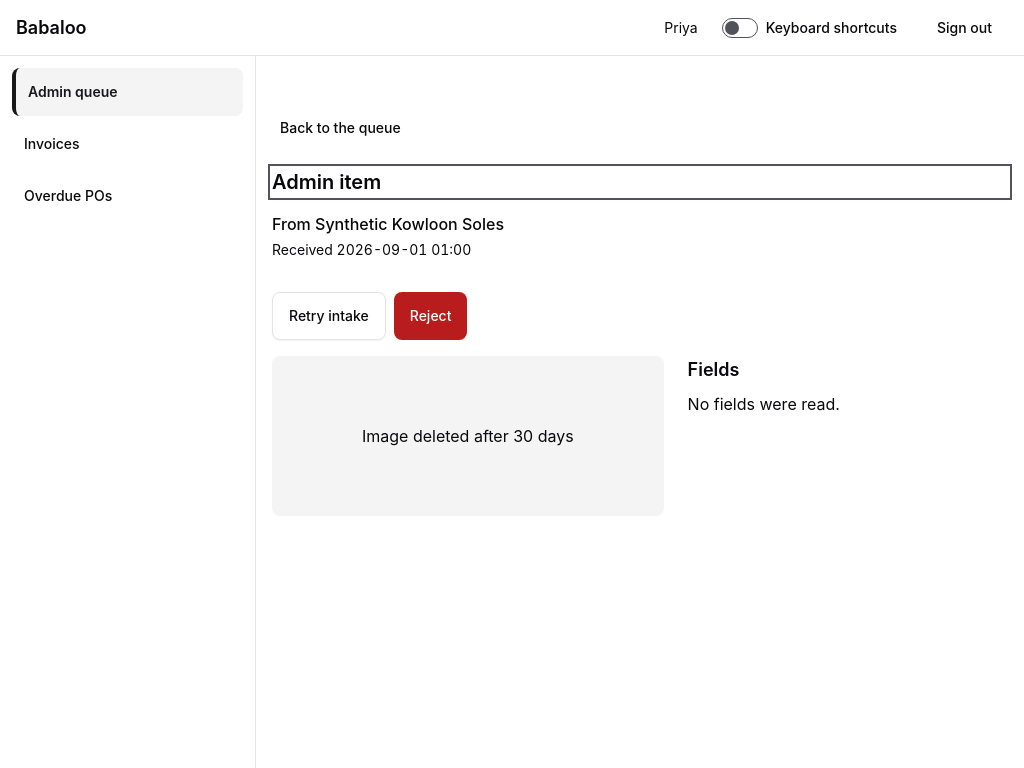
Test: 2.10 admin actions › sends Retry intake and Re-extract through their dialogs, and returns to the queue when an action is no longer allowed
Click the button "Retry intake".
click(329, 316)  # box [272,292,386,340]
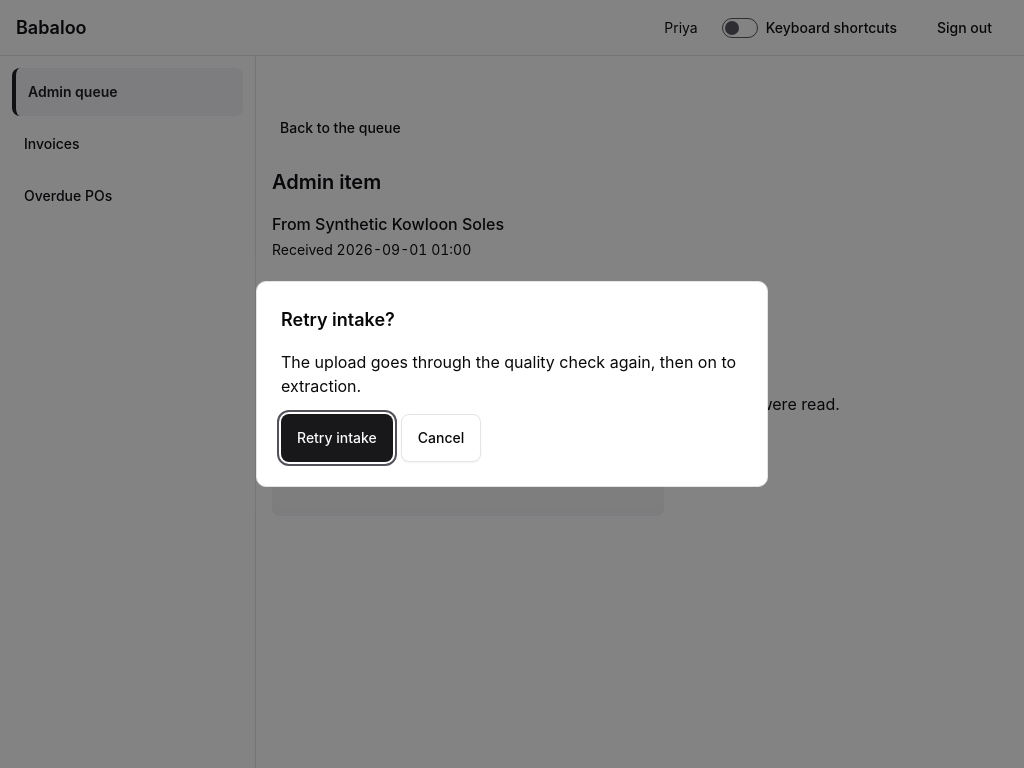
Click the button "Retry intake" below "Retry intake?".
click(337, 438)  # box [281,414,393,462]
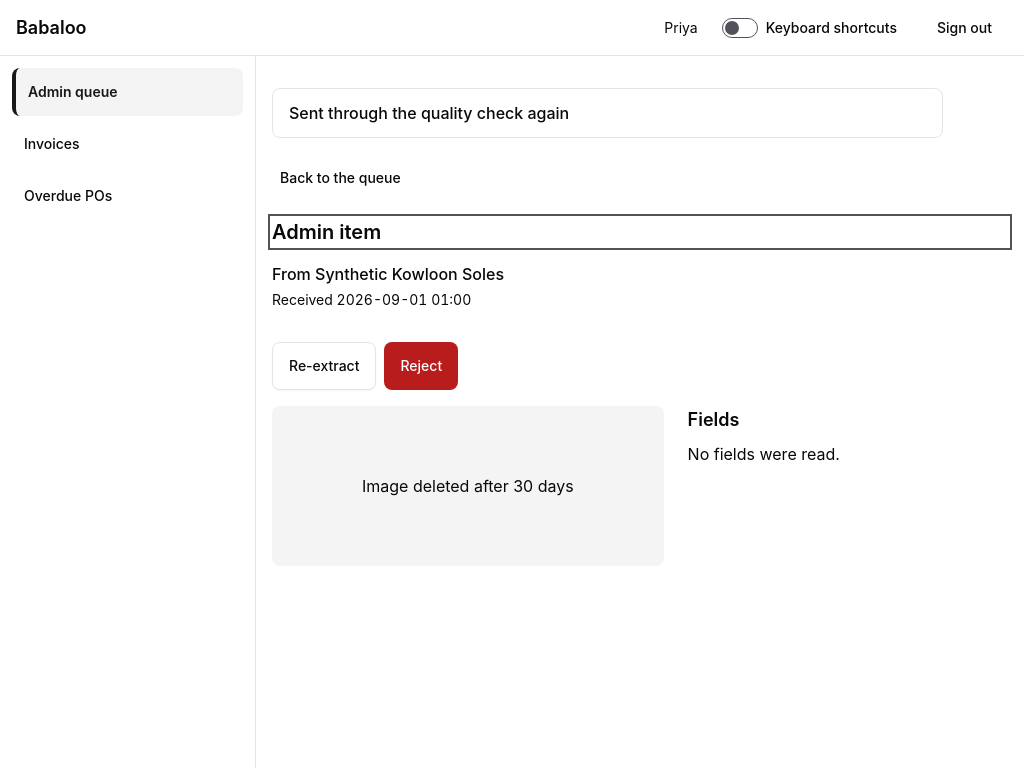
Check: the message with test id "shell-toast" reads "Sent through the quality check again", box [289,103,569,123]
Click the button "Re-extract".
click(324, 366)  # box [272,342,376,390]
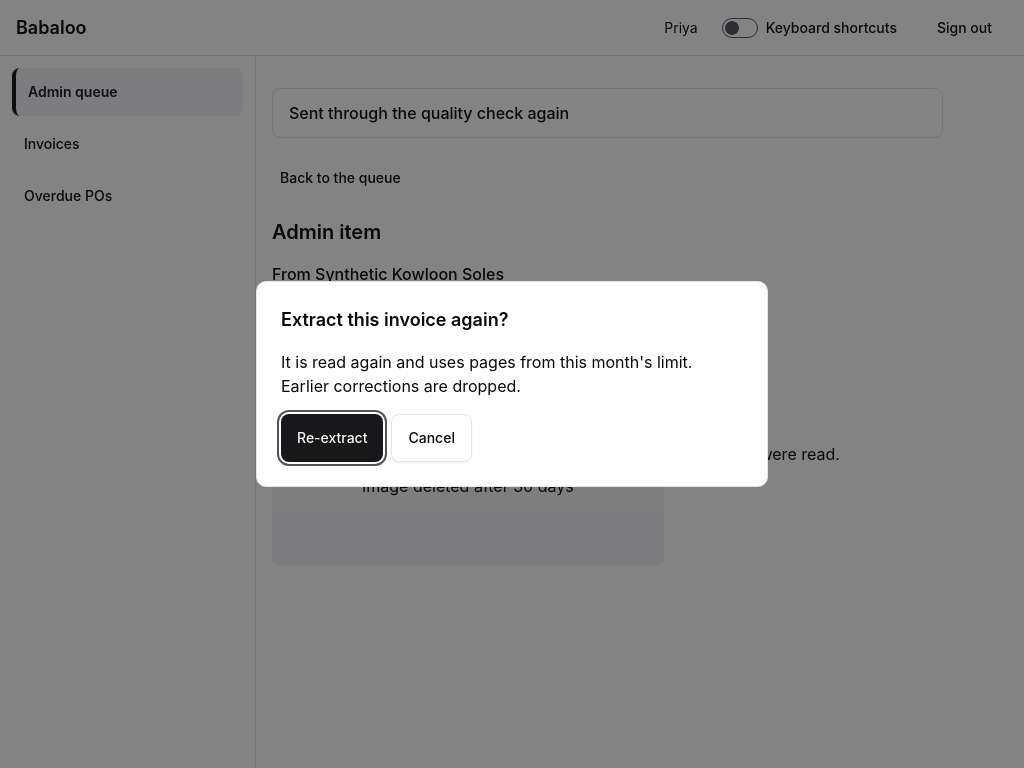
Click the button "Re-extract" below "Extract this invoice again?".
click(332, 438)  # box [281,414,384,462]
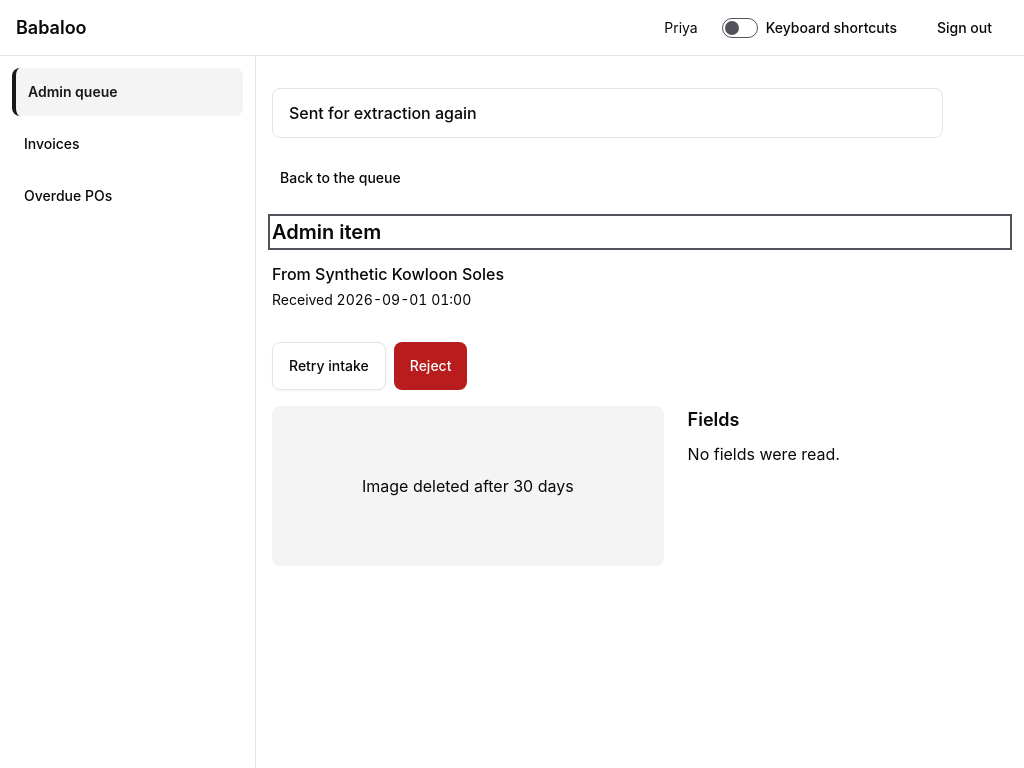
Check: the message with test id "shell-toast" reads "Sent for extraction again", box [289,103,477,123]
Click the button "Retry intake".
click(329, 366)  # box [272,342,386,390]
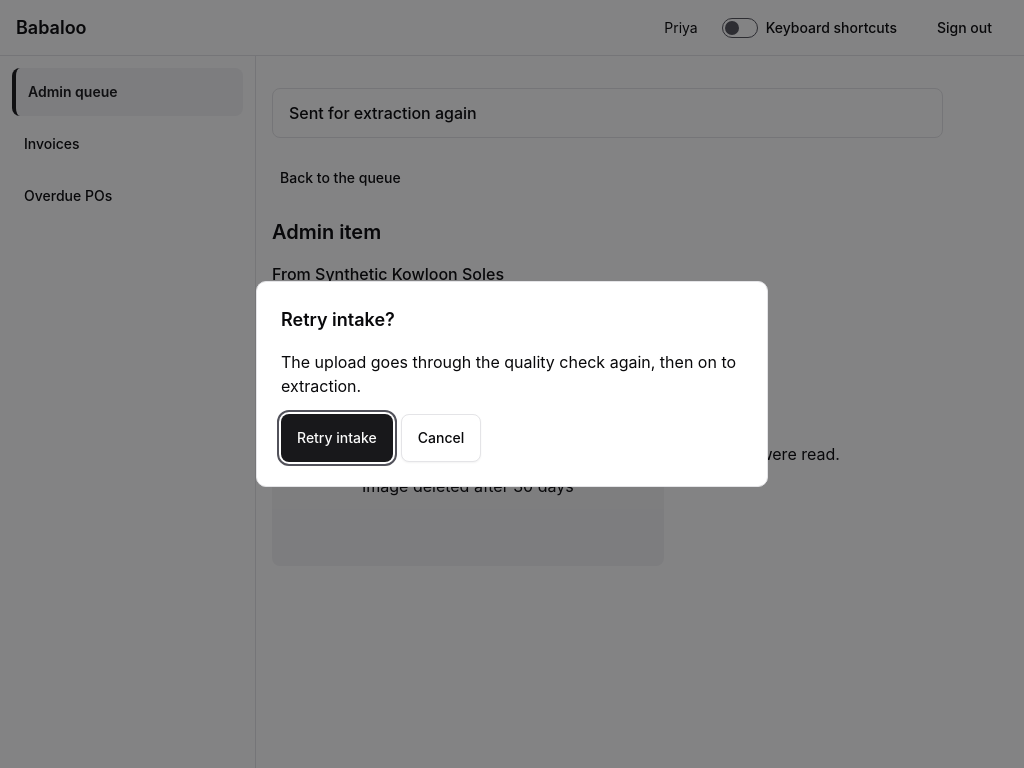
Click the button "Retry intake" below "Retry intake?".
click(337, 438)  # box [281,414,393,462]
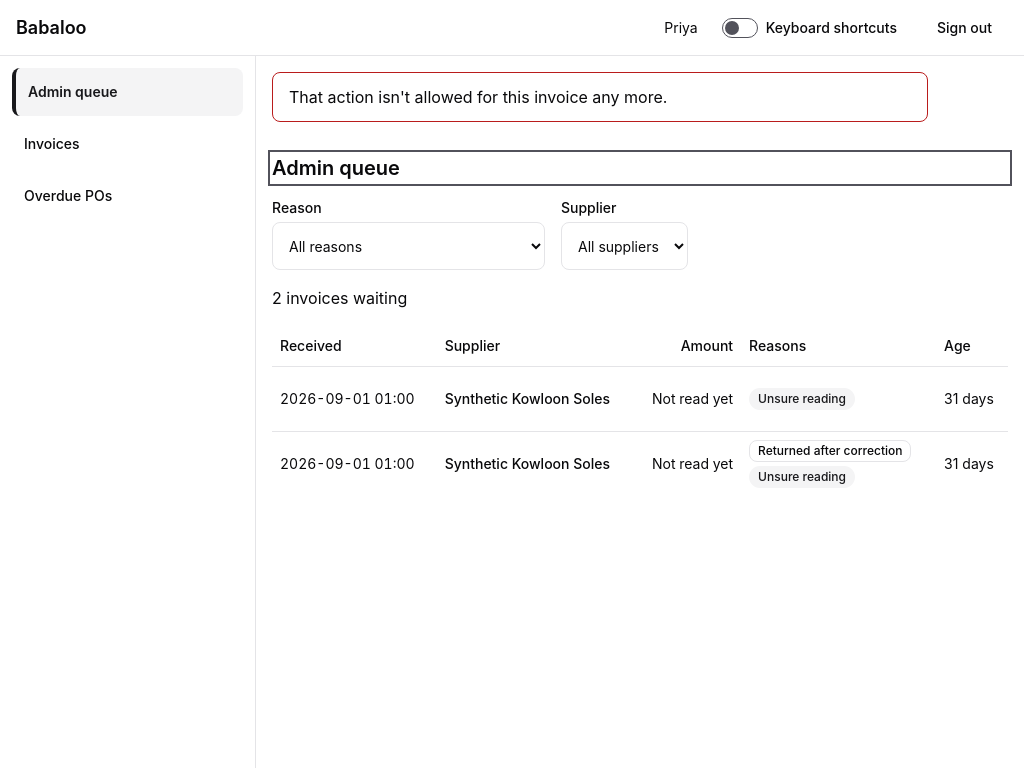
Check: the message with test id "shell-notice" reads "That action isn't allowed for this invoice any more.", box [289,87,667,107]
